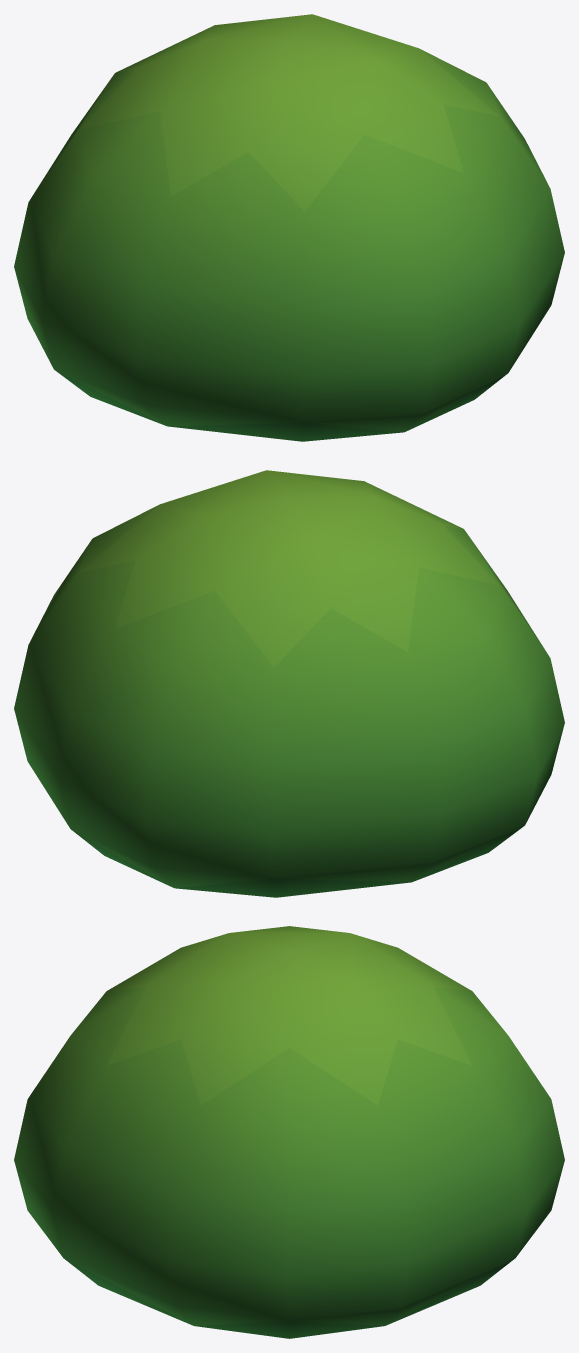
Rendered from plant-bush.glb.
3 views of the same model, one above another, from view 1: azimuth 30°, elevation 25°; view 2: azimuth 150°, elevation 25°; view 3: azimuth 270°, elevation 25° (orthographic). The views are drawn at different scales.
Visible parts, largest first — view 1: plant.bush; view 2: plant.bush; view 3: plant.bush.
Part boxes in pixels (box(x1,y1,x2,y2)): plant.bush: box(14, 14, 564, 441); plant.bush: box(14, 470, 564, 897); plant.bush: box(14, 926, 564, 1338).
Size of the model in its own units: 1.57 by 0.9938 by 1.57.
